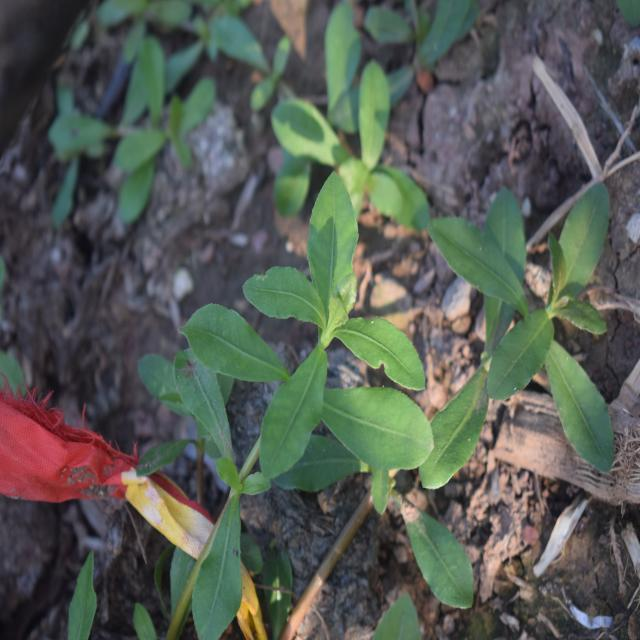Alligatorweed: (165, 175, 419, 507), (367, 157, 620, 490)
